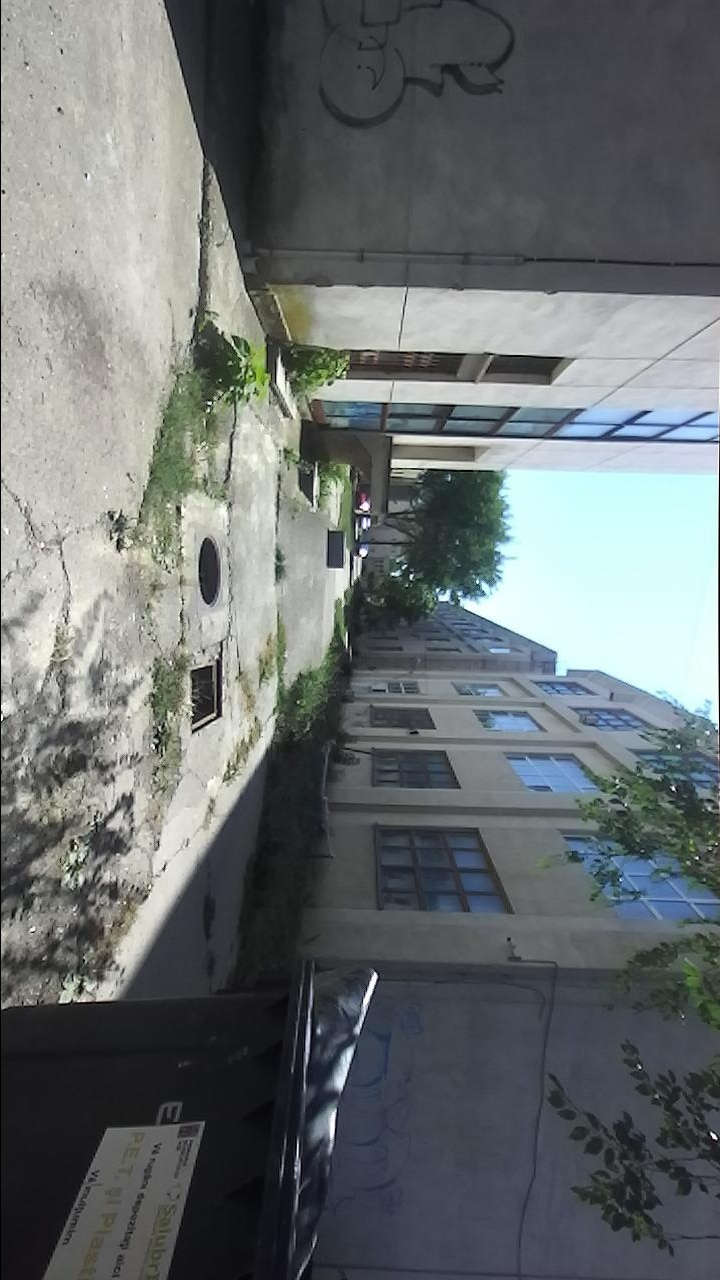drain: (186, 654, 229, 739), (196, 535, 230, 608)
